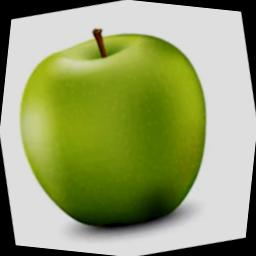Apple Unripe: (0, 0, 246, 255)
